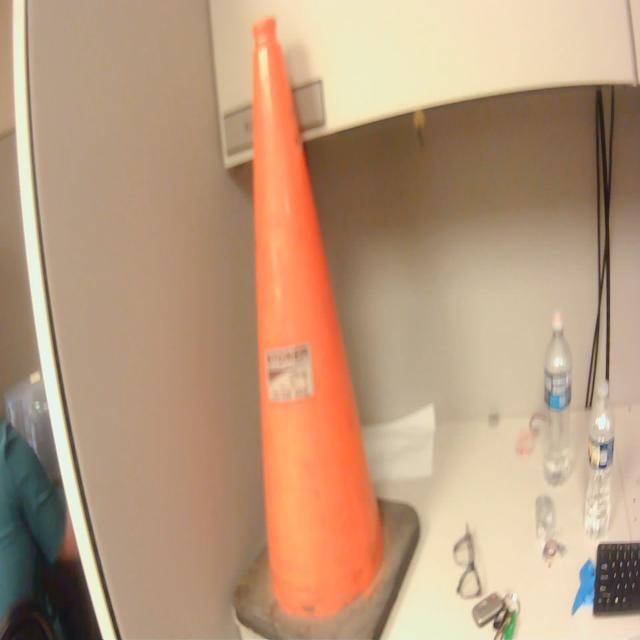traffic cone: (228, 12, 425, 640)
